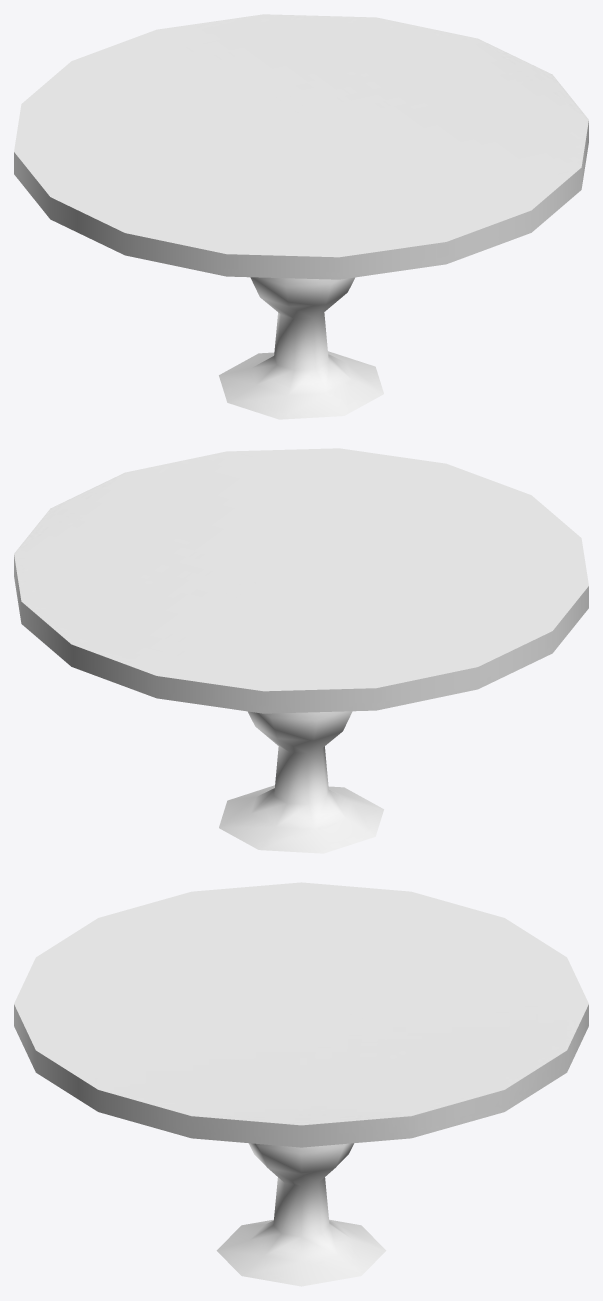
Rendered from Table.fbx.
3 views of the same model, one above another, from view 1: azimuth 30°, elevation 25°; view 2: azimuth 150°, elevation 25°; view 3: azimuth 270°, elevation 25° (orthographic).
Parts seen in each view (by area): view 1: Table; view 2: Table; view 3: Table.
Part boxes in pixels (left/top/right/bottom): Table: left=14, top=14, right=588, bottom=419; Table: left=14, top=448, right=588, bottom=853; Table: left=14, top=882, right=588, bottom=1286.
Size of the model in its own units: 18.41 by 8.72 by 18.41.
Materials: 1 (1 with a texture image).
